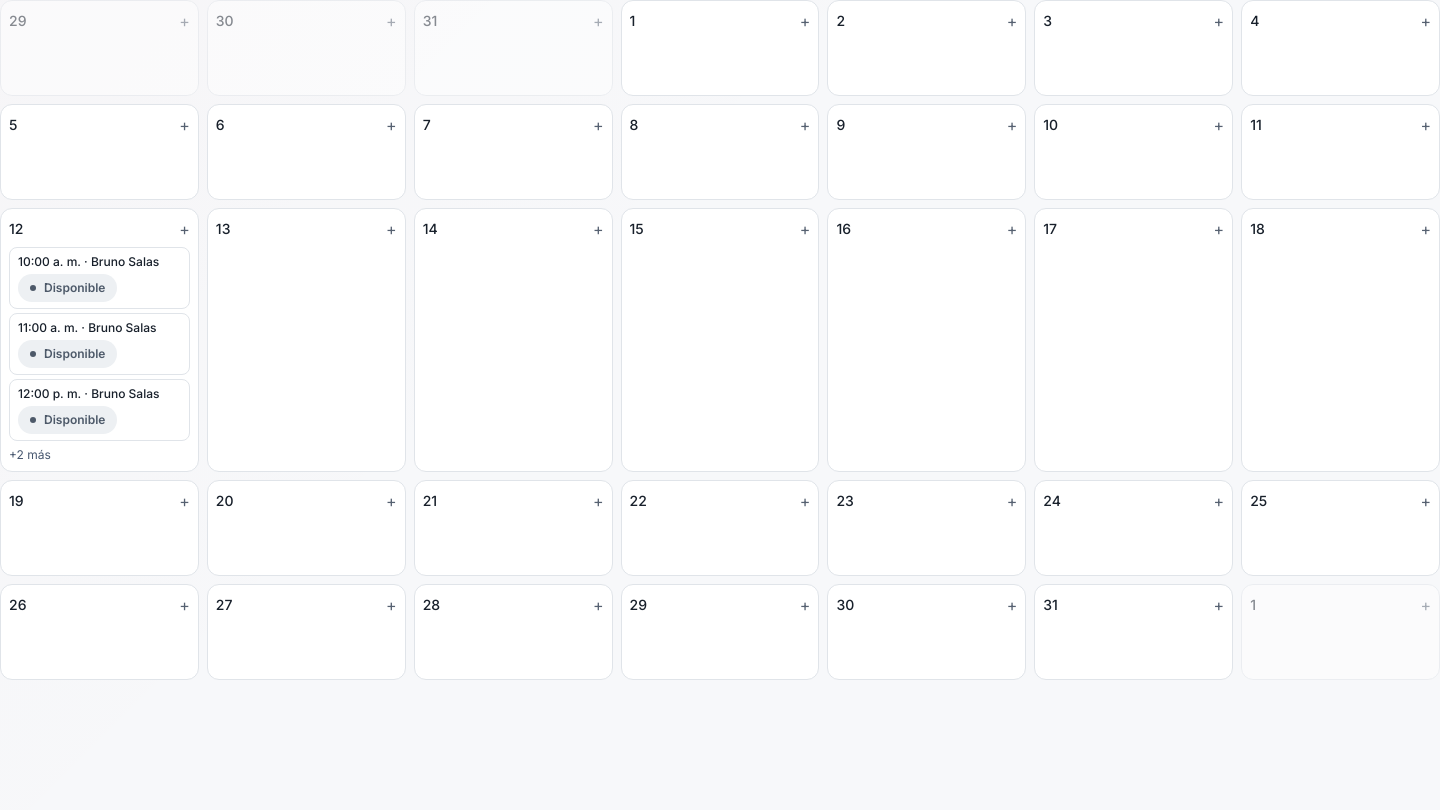
Test: PracticeSlotCalendar › en vista de mes, colapsa a partir de la cuarta franja con un botón '+N más' expandible
Click the button "+2 más".
click(99, 455)  # box [9, 447, 190, 463]
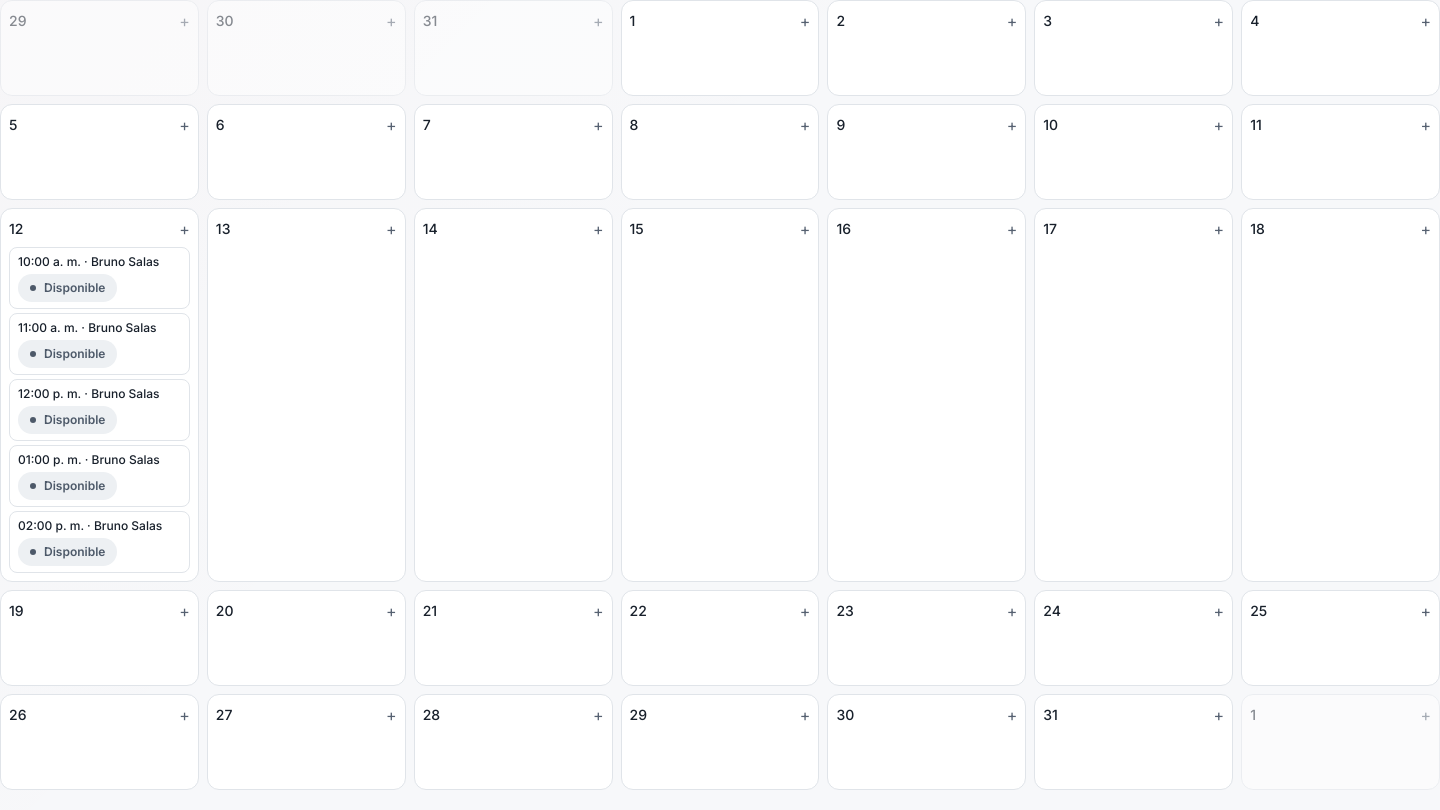
Result: the button "+2 más" is gone
